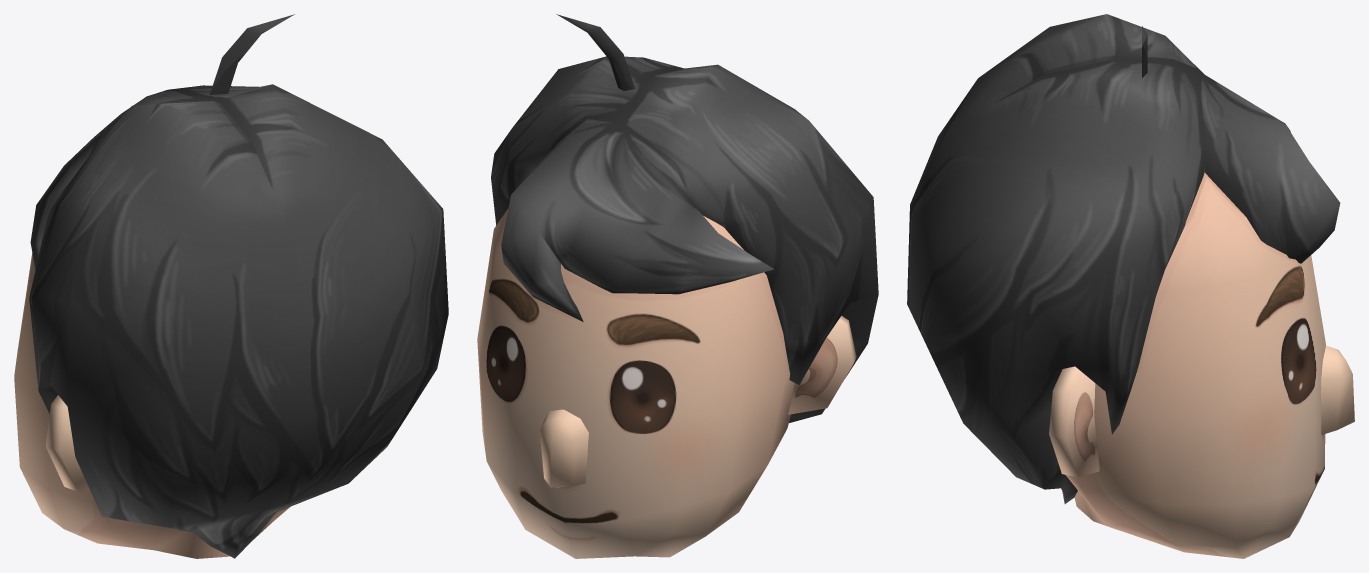
File: curious_boy_black_head.glb
3 renders of one model, left to right at view 1: azimuth 30°, elevation 25°; view 2: azimuth 150°, elevation 25°; view 3: azimuth 270°, elevation 25°, orthographic. The views are drawn at different scales.
Visible parts, largest first — view 1: head; view 2: head; view 3: head.
Boxes of the visible parts, x1=… form: head: x1=14, y1=14, x2=448, y2=558; head: x1=477, y1=14, x2=878, y2=558; head: x1=907, y1=14, x2=1354, y2=558.
Size of the model in its own units: 0.3505 by 0.4571 by 0.3464.
2 materials, 1 textured.
